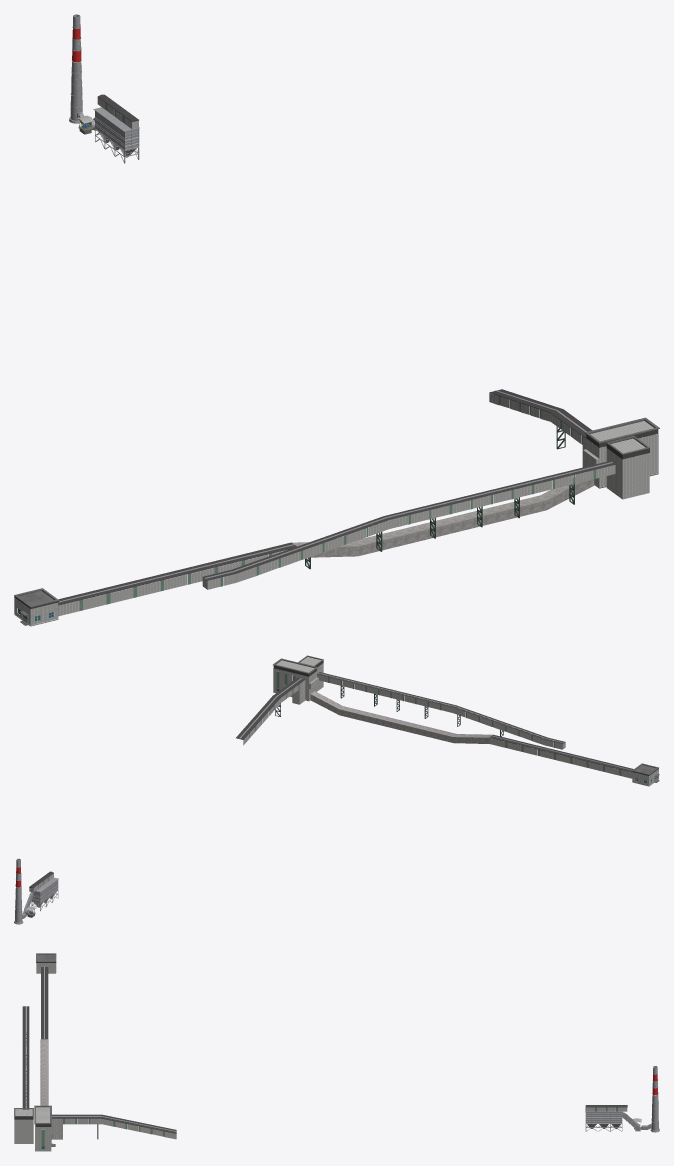
3 renders of one model, top to bottom at view 1: azimuth 30°, elevation 25°; view 2: azimuth 150°, elevation 25°; view 3: azimuth 270°, elevation 25°, orthographic. The views are drawn at different scales.
Parts seen in each view (by area): view 1: 其他建筑08, 其他建筑10, 其他建筑13, 其他建筑16, 其他建筑00, 其他建筑11; view 2: 其他建筑08, 其他建筑10, 其他建筑13, 其他建筑16, 其他建筑11, 其他建筑00; view 3: 其他建筑08, 其他建筑10, 其他建筑16, 其他建筑13, 其他建筑00.
Boxes of the visible parts, x1,y1,x2,y2 form: 其他建筑08: (14, 97, 658, 625); 其他建筑10: (14, 94, 658, 608); 其他建筑13: (14, 117, 594, 626); 其他建筑16: (18, 14, 612, 623); 其他建筑00: (14, 126, 659, 625); 其他建筑11: (79, 103, 595, 610); 其他建筑08: (26, 657, 658, 911); 其他建筑10: (29, 660, 658, 888); 其他建筑13: (14, 691, 658, 924); 其他建筑16: (15, 673, 658, 922); 其他建筑11: (38, 671, 621, 888); 其他建筑00: (27, 655, 659, 917); 其他建筑08: (14, 963, 641, 1150); 其他建筑10: (14, 962, 627, 1133); 其他建筑16: (25, 966, 658, 1149); 其他建筑13: (36, 973, 659, 1132); 其他建筑00: (14, 953, 640, 1151).
Size of the model in its own units: 213 by 37.87 by 310.
11 materials, 10 textured.
